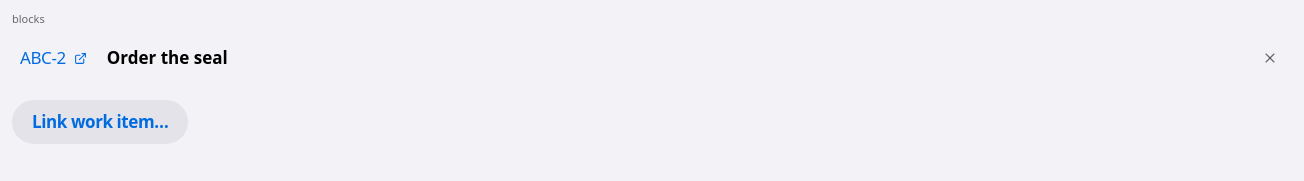
Test case: the link form › backs out on Cancel
The width and height of the screenshot is (1304, 181).
Click the button "Link work item…".
click(100, 122)  # box [12, 100, 188, 144]
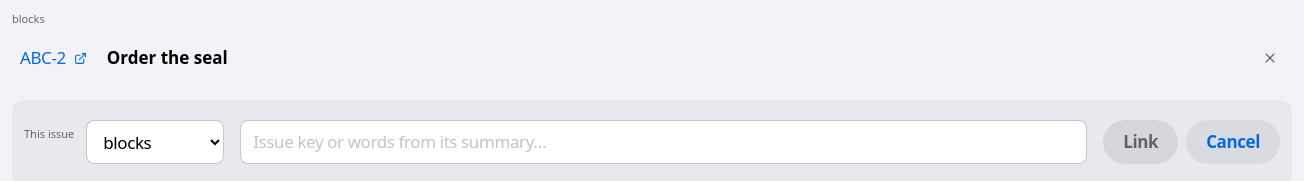
Click the button "Cancel".
click(1233, 142)  # box [1186, 120, 1280, 164]
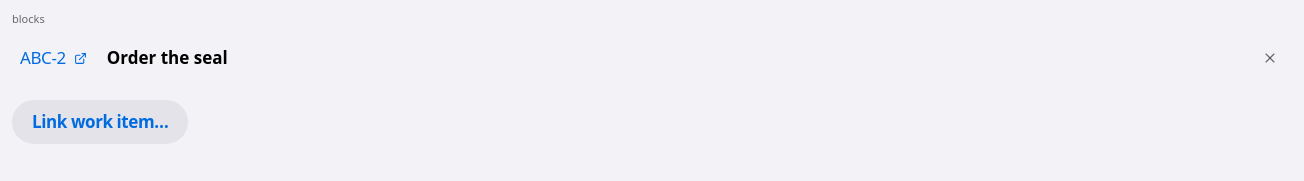
Result: the button "Link work item…" is shown at [12, 100, 188, 144]
